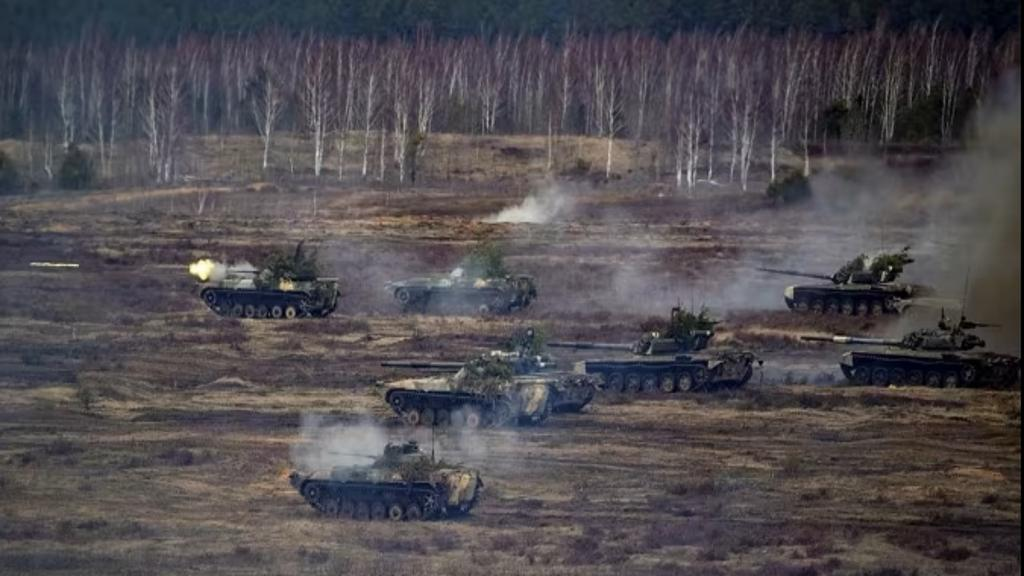APC-IFV: (287, 438, 485, 524), (383, 257, 540, 321), (188, 258, 345, 319)
TANK: (379, 336, 591, 427), (545, 313, 763, 398), (792, 316, 1019, 390), (755, 252, 931, 314)
